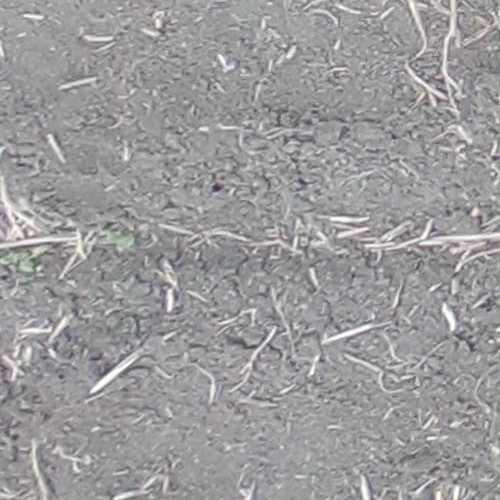isolated: (98, 227, 135, 254), (1, 251, 34, 273)
